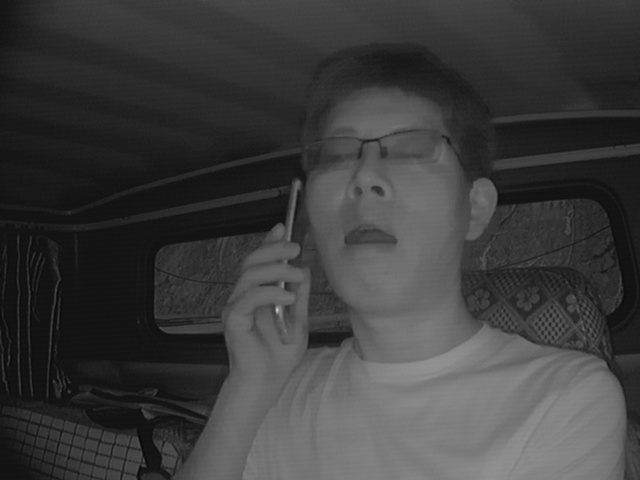hand: (215, 222, 316, 365)
